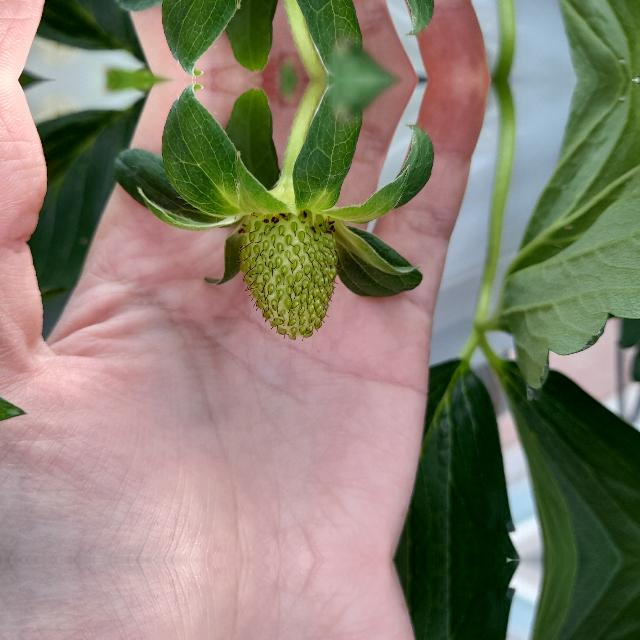Health_25: (236, 213, 340, 341)
